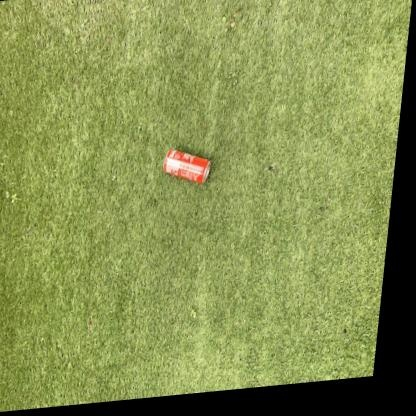trash: (163, 148, 210, 183)
